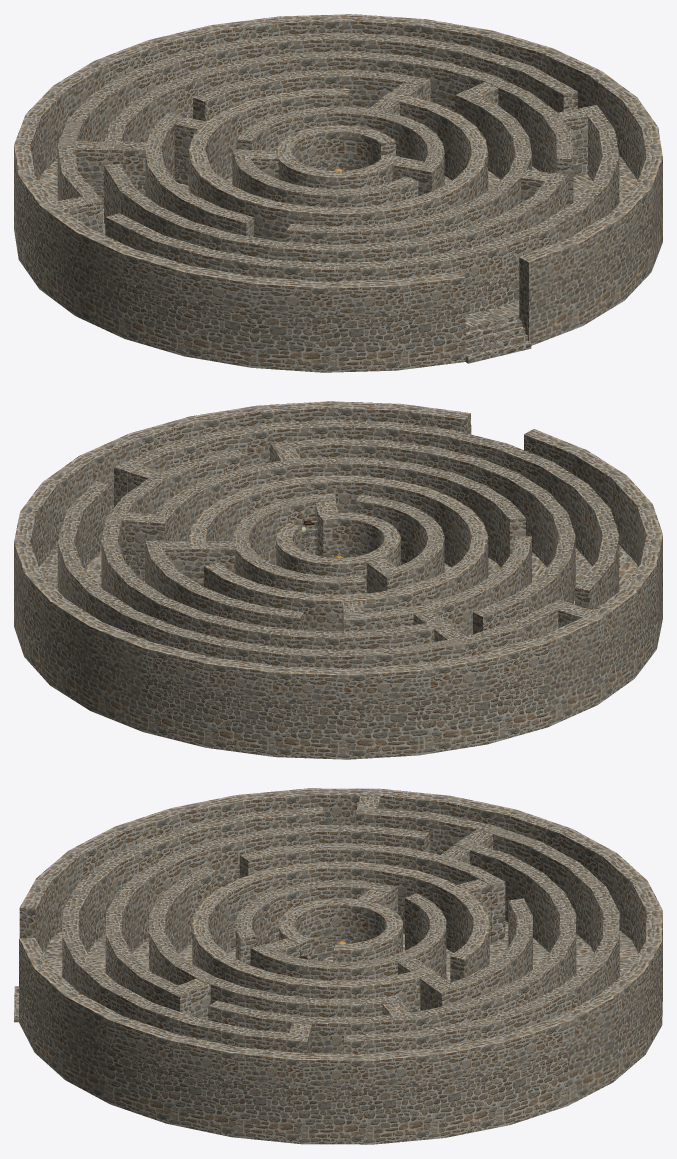
File: ancientCircularMaze.glb
3 views of the same model, one above another, from view 1: azimuth 30°, elevation 25°; view 2: azimuth 150°, elevation 25°; view 3: azimuth 270°, elevation 25° (orthographic).
Parts seen in each view (by area): view 1: Cube; view 2: Cube; view 3: Cube.
Part boxes in pixels (x1=…): Cube: x1=14, y1=14, x2=662, y2=372; Cube: x1=14, y1=401, x2=662, y2=759; Cube: x1=14, y1=788, x2=662, y2=1144.
Size of the model in its own units: 595 by 85.53 by 600.
4 materials, 3 textured.
